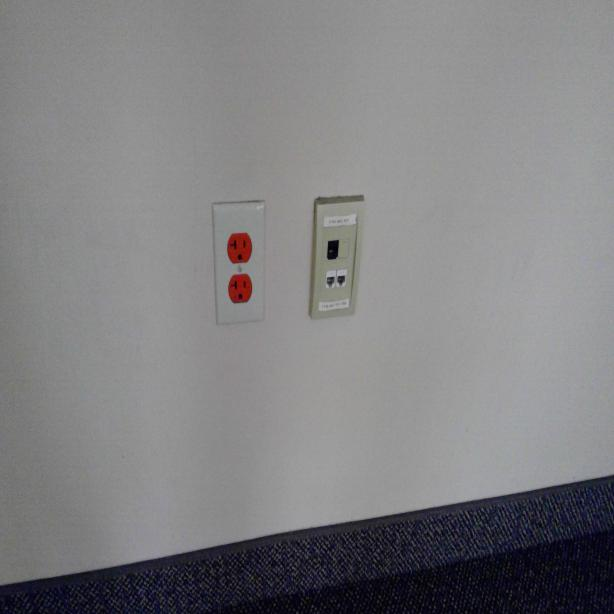typeb: (228, 232, 252, 270), (229, 275, 251, 307)
